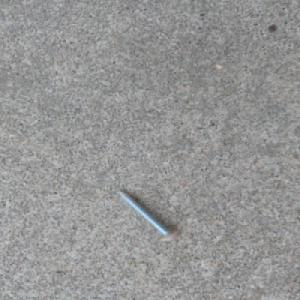Screw: (117, 189, 182, 242)
